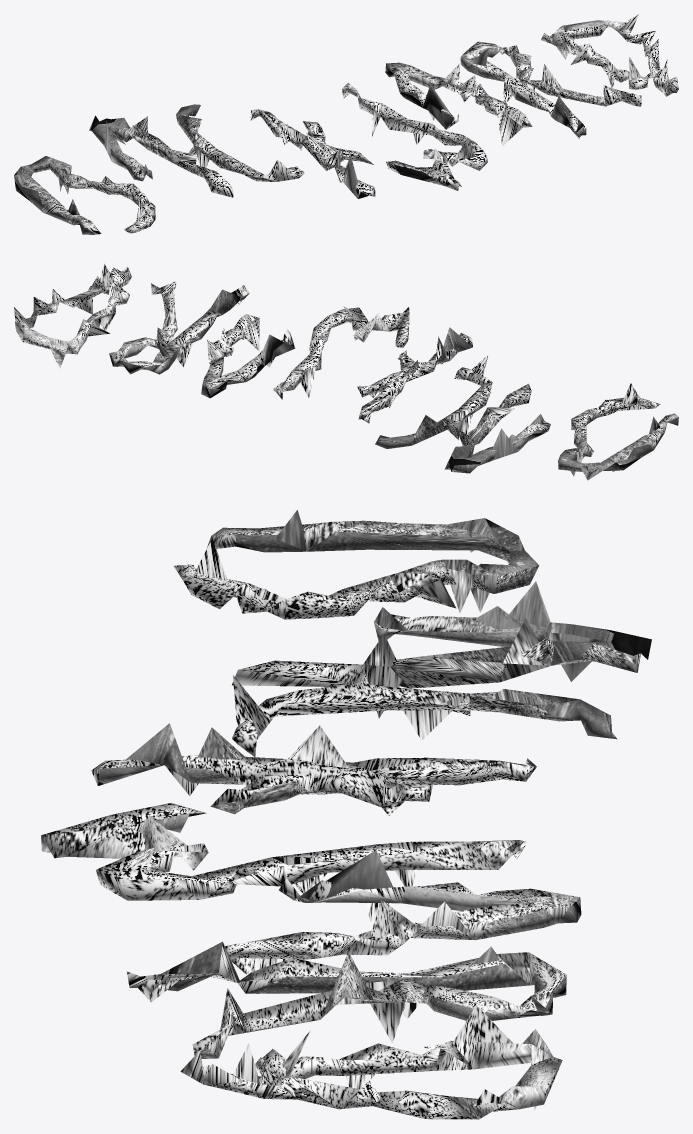
File: 07_BACKWARD.glb
The picture shows the model from 3 angles, top to bottom: view 1: azimuth 30°, elevation 25°; view 2: azimuth 150°, elevation 25°; view 3: azimuth 270°, elevation 25°; orthographic projection. The views are drawn at different scales.
Visible parts, largest first — view 1: 07_BACKWARD; view 2: 07_BACKWARD; view 3: 07_BACKWARD.
Part boxes in pixels (left/top/right/bottom): 07_BACKWARD: left=14, top=14, right=678, bottom=234; 07_BACKWARD: left=14, top=263, right=678, bottom=480; 07_BACKWARD: left=41, top=510, right=651, bottom=1119.
Size of the model in its own units: 1.81 by 0.1426 by 0.7882.
Materials: 1 (1 with a texture image).
